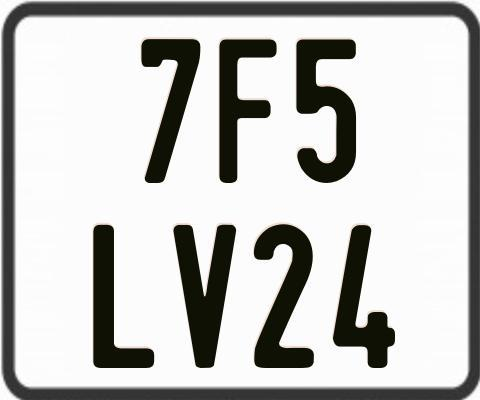2: (252, 223, 315, 372)
4: (333, 223, 397, 371)
5: (296, 36, 360, 185)
7: (140, 36, 202, 181)
F: (219, 38, 277, 182)
L: (90, 223, 157, 370)
V: (171, 224, 240, 373)
